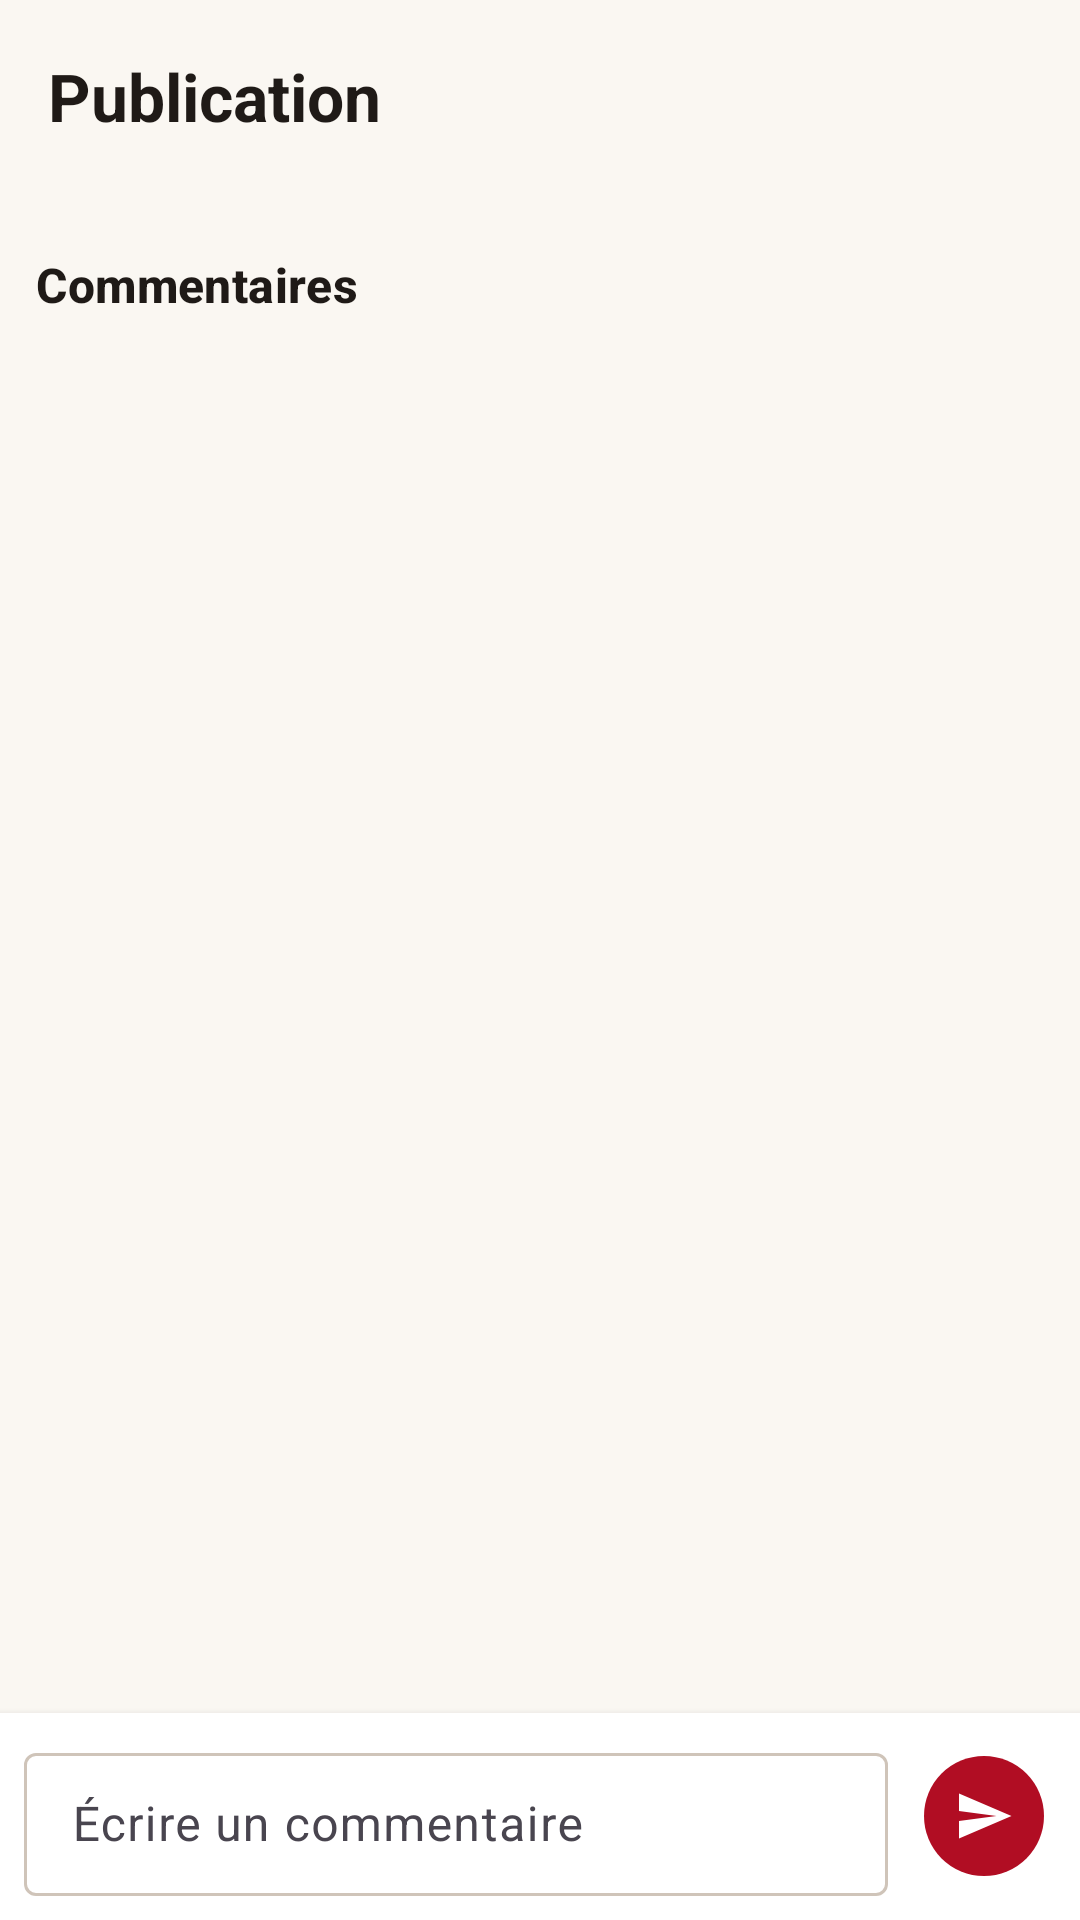

Locate icon controls on the screen. Image size 1080px x 1920px, boxes as BBox(x1, y1, x2, y2).
Envoyer: BBox(924, 1756, 1044, 1876)
